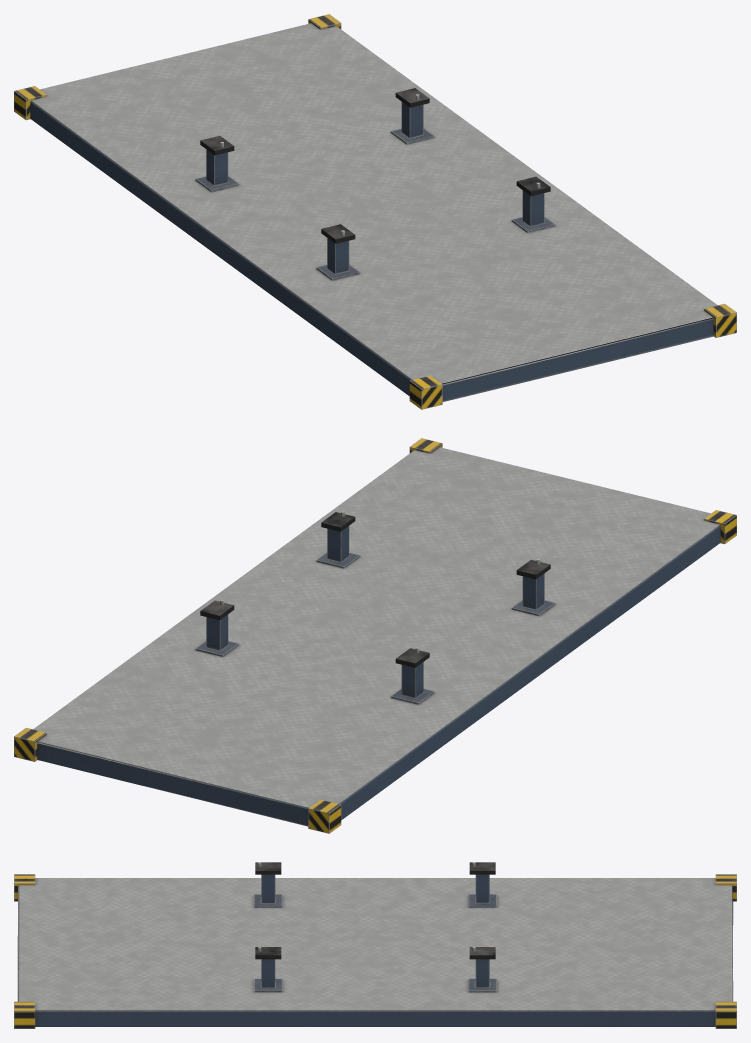
File: AssemblySkid.fbx
The picture shows the model from 3 angles, top to bottom: view 1: azimuth 30°, elevation 25°; view 2: azimuth 150°, elevation 25°; view 3: azimuth 270°, elevation 25°; orthographic projection. The views are drawn at different scales.
Parts seen in each view (by area): view 1: AssemblySkid_LOD0; view 2: AssemblySkid_LOD0; view 3: AssemblySkid_LOD0.
Boxes of the visible parts, x1=… form: AssemblySkid_LOD0: x1=14, y1=14, x2=736, y2=409; AssemblySkid_LOD0: x1=14, y1=438, x2=736, y2=833; AssemblySkid_LOD0: x1=14, y1=862, x2=736, y2=1028.
Size of what is drawn, in the model's own units: 2.26 by 0.43 by 5.06.
1 material, 1 textured.
